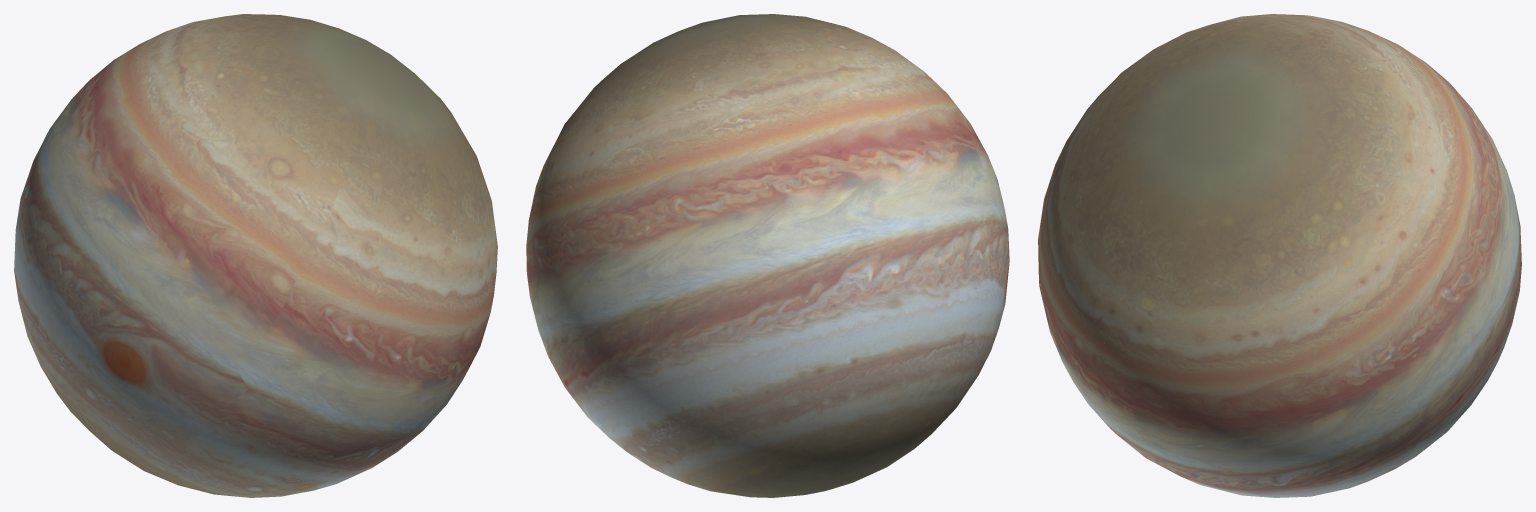
The model's file is jupiter.obj.
3 views of the same model, side by side, from view 1: azimuth 30°, elevation 25°; view 2: azimuth 150°, elevation 25°; view 3: azimuth 270°, elevation 25° (orthographic).
Visible parts, largest first — view 1: Sphere; view 2: Sphere; view 3: Sphere.
Boxes of the visible parts, x1,y1,x2,y2 form: Sphere: [14, 14, 497, 497]; Sphere: [526, 14, 1009, 497]; Sphere: [1038, 14, 1521, 497].
Size of the model in its own units: 1 by 1 by 0.9999.
